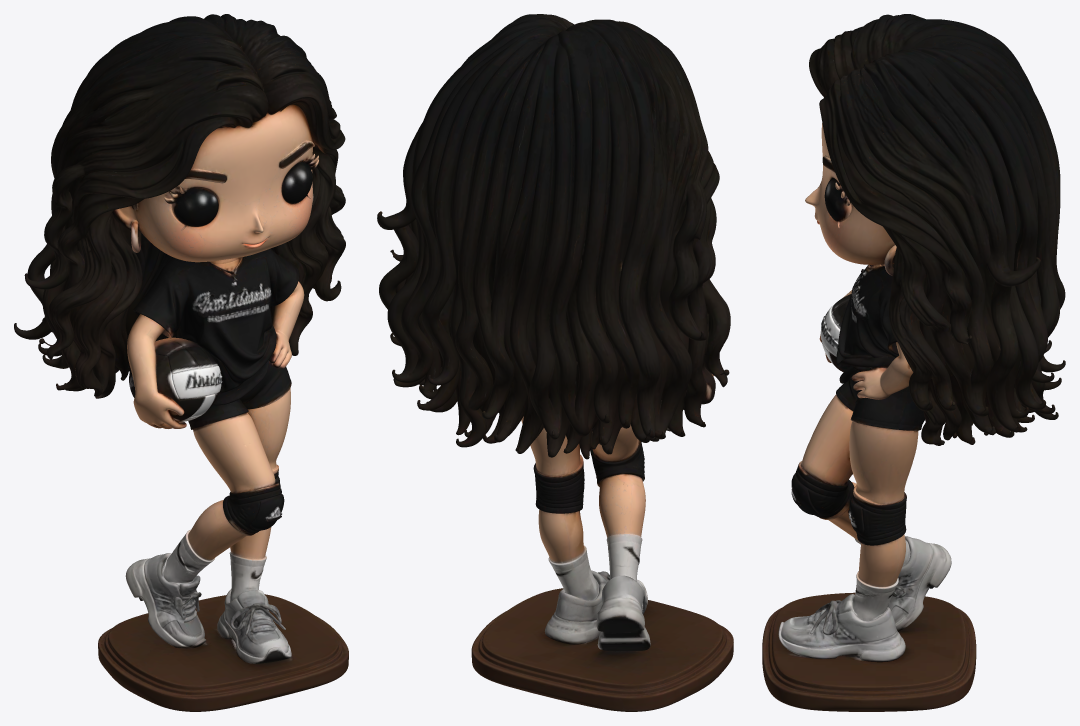
3 views of the same model, side by side, from view 1: azimuth 30°, elevation 25°; view 2: azimuth 150°, elevation 25°; view 3: azimuth 270°, elevation 25° (orthographic). The views are drawn at different scales.
Size of the model in its own units: 0.5673 by 1.09 by 0.4716.
1 material, 1 textured.
